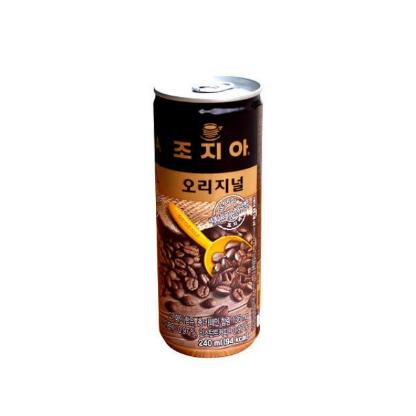Can: (154, 77, 260, 361)
